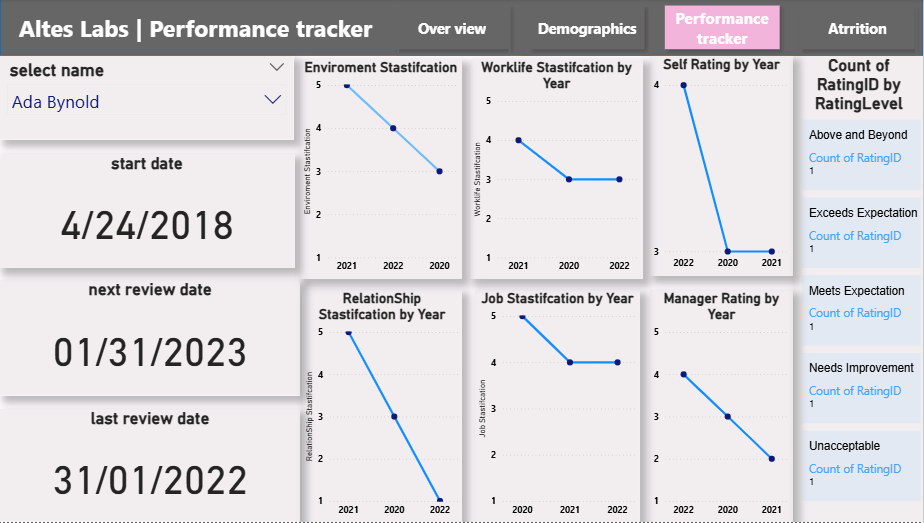

What the dashboard file says about the page in this screenshot:
{"tool":"powerbi","page":{"name":"Performance tracker","canvas":[1280,720],"ordinal":2},"visuals":[{"type":"shape","box":[9.8,0,1270.5,78.3],"z":0},{"type":"pageNavigator","box":[544.2,0,736.1,78.3],"z":1000},{"type":"slicer","fields":{"Values":["DimEmployee.full name"]},"box":[9.8,78.3,403.5,114.9],"z":2000},{"type":"card","title":"start date","fields":{"Values":["Min(DimEmployee.HireDate)"]},"box":[8.6,212.8,407.2,156.5],"z":3000},{"type":"card","title":"next review date","fields":{"Values":["_measures.next review date"]},"box":[9.8,386.4,413.3,159],"z":4000},{"type":"card","title":"last review date","fields":{"Values":["_measures.last review date"]},"box":[9.8,564.9,413.3,155.3],"z":5000},{"type":"lineChart","title":"Enviroment Stastifcation","fields":{"Y":["_measures.environment Satisfaction"],"Category":["DimDate.Year"]},"box":[423.1,83.2,222.6,303.3],"z":6000},{"type":"lineChart","fields":{"Y":["_measures.Worklife Stastifcation"],"Category":["DimDate.Year"]},"box":[656.7,83.2,238.5,303.3],"z":7000},{"type":"lineChart","fields":{"Y":["_measures.Manager Rating"],"Category":["DimDate.Year"]},"box":[904.9,399.9,196.9,320.4],"z":8000},{"type":"lineChart","fields":{"Y":["_measures.RelationShip Stastifcation"],"Category":["DimDate.Year"]},"box":[425.5,399.9,220.1,320.4],"z":9000},{"type":"lineChart","fields":{"Y":["_measures.Job Stastifcation"],"Category":["DimDate.Year"]},"box":[662.8,399.9,227.4,320.4],"z":10000},{"type":"lineChart","fields":{"Y":["_measures.Self Rating"],"Category":["DimDate.Year"]},"box":[904.9,78.3,196.9,303.3],"z":11000},{"type":"multiInfoCards9D184BB3D4E44A139DA08142D76EFD36","fields":{"title":["DimRatingLevel.RatingLevel"],"informations":["CountNonNull(DimRatingLevel.RatingID)"]},"box":[1101.8,78.3,178.5,642],"z":12000},{"type":"actionButton","box":[556.4,8.6,156.5,69.7],"z":13000},{"type":"actionButton","box":[1101.8,8.6,170,69.7],"z":14000},{"type":"actionButton","box":[726.4,8.6,178.5,69.7],"z":15000},{"type":"textbox","box":[30.3,12.4,525.8,61.9],"z":16000}]}

Visuals, with their boxes in screenshot pixels (x1, y1, x2, y2), scaled from the page's 1280x720 canvas onto the 924x523 screenshot:
shape: BBox(7, 0, 923, 57)
pageNavigator: BBox(393, 0, 923, 57)
slicer - DimEmployee.full name: BBox(7, 57, 298, 140)
"start date" card: BBox(6, 155, 300, 268)
"next review date" card: BBox(7, 281, 305, 396)
"last review date" card: BBox(7, 410, 305, 522)
"Enviroment Stastifcation" lineChart: BBox(305, 60, 466, 281)
lineChart - _measures.Worklife Stastifcation x DimDate.Year: BBox(474, 60, 646, 281)
lineChart - _measures.Manager Rating x DimDate.Year: BBox(653, 290, 795, 522)
lineChart - _measures.RelationShip Stastifcation x DimDate.Year: BBox(307, 290, 466, 522)
lineChart - _measures.Job Stastifcation x DimDate.Year: BBox(478, 290, 643, 522)
lineChart - _measures.Self Rating x DimDate.Year: BBox(653, 57, 795, 277)
multiInfoCards9D184BB3D4E44A139DA08142D76EFD36 - DimRatingLevel.RatingLevel x CountNonNull(DimRatingLevel.RatingID): BBox(795, 57, 923, 522)
actionButton: BBox(402, 6, 515, 57)
actionButton: BBox(795, 6, 918, 57)
actionButton: BBox(524, 6, 653, 57)
textbox: BBox(22, 9, 401, 54)
